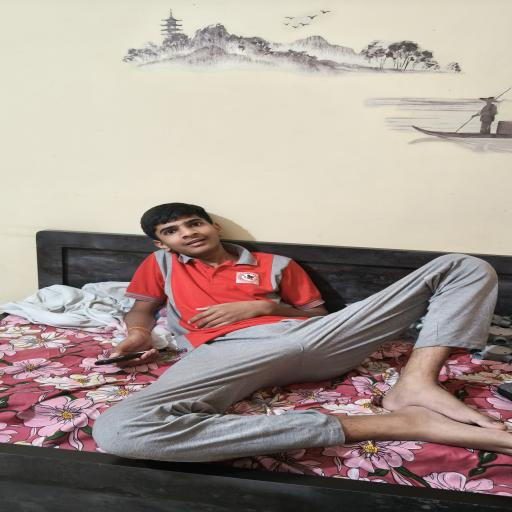survivor: (91, 202, 512, 462)
